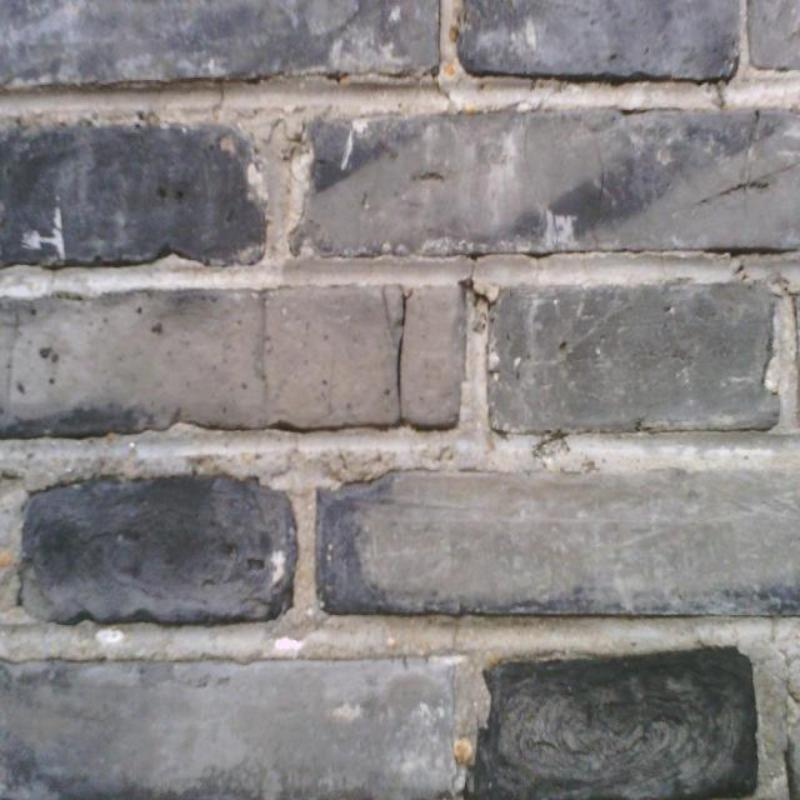pothole: (397, 293, 411, 406)
